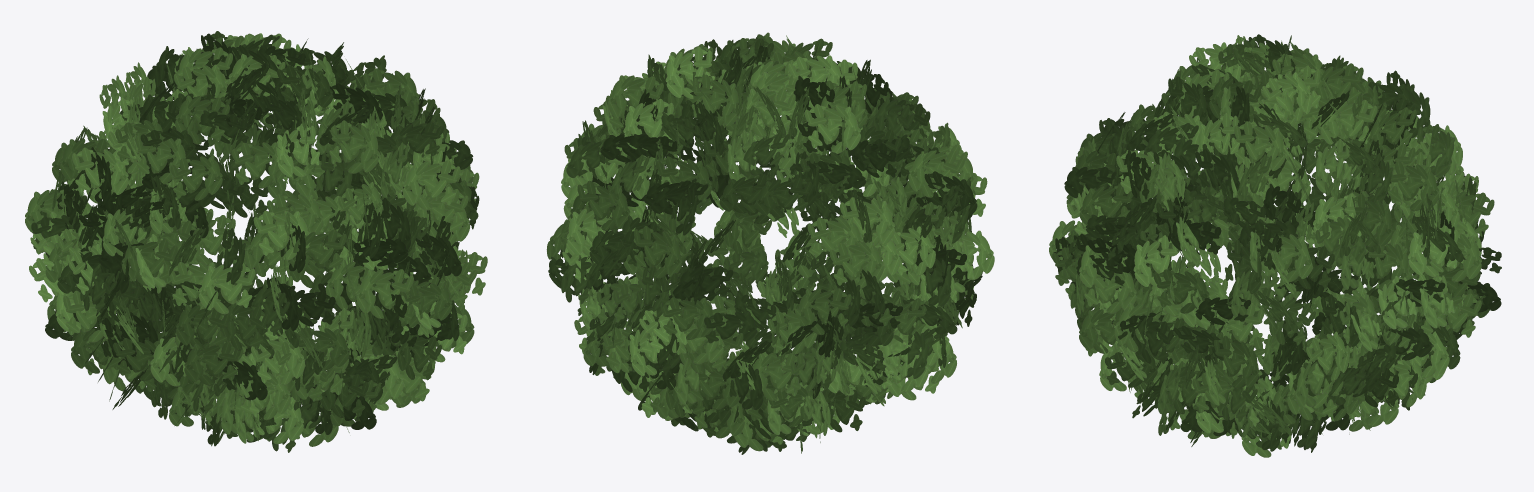
The model's file is tree.glb.
The picture shows the model from 3 angles, left to right: view 1: azimuth 30°, elevation 25°; view 2: azimuth 150°, elevation 25°; view 3: azimuth 270°, elevation 25°; orthographic projection.
Parts seen in each view (by area): view 1: crown; view 2: crown; view 3: crown.
Boxes of the visible parts, x1=… form: crown: x1=25, y1=31, x2=487, y2=452; crown: x1=546, y1=32, x2=994, y2=454; crown: x1=1049, y1=34, x2=1501, y2=457.
Bounding box in the file's own units: 6.97 × 6.27 × 6.98.
1 material, 1 textured.
